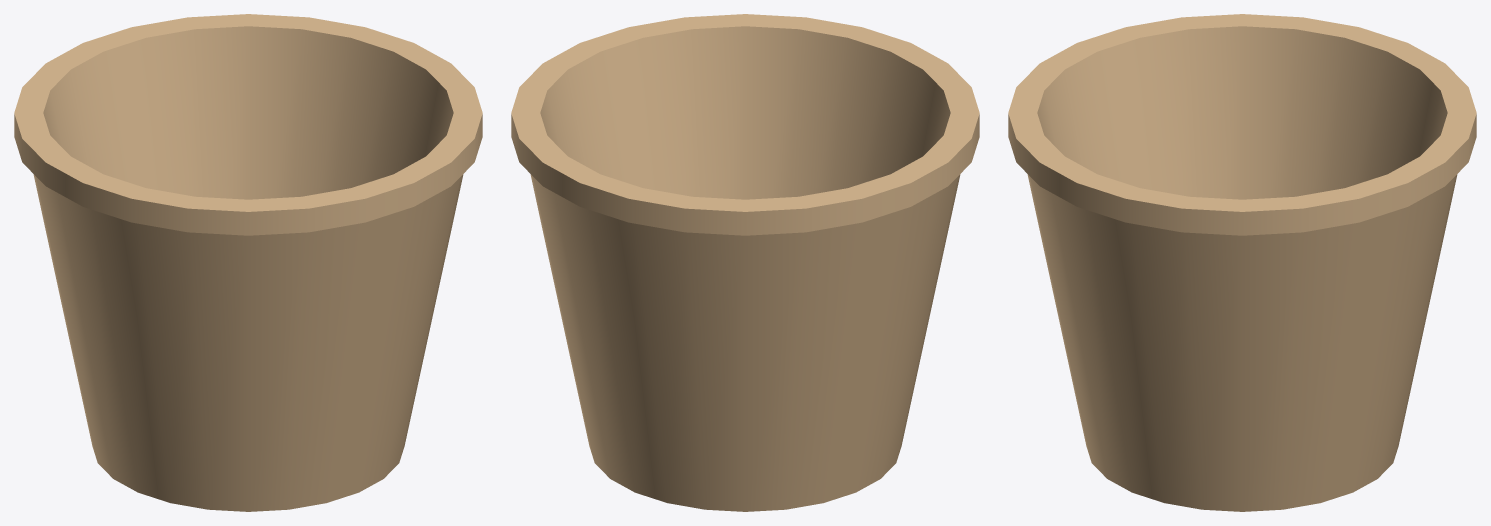
Rendered from pot_yellow.fbx.
The picture shows the model from 3 angles, left to right: view 1: azimuth 30°, elevation 25°; view 2: azimuth 150°, elevation 25°; view 3: azimuth 270°, elevation 25°; orthographic projection.
Parts seen in each view (by area): view 1: pot_yellow; view 2: pot_yellow; view 3: pot_yellow.
Boxes of the visible parts, box(x1,y1,x2,y2) form: pot_yellow: box(14, 14, 482, 511); pot_yellow: box(511, 14, 979, 511); pot_yellow: box(1008, 14, 1476, 511).
Size of the model in its own units: 0.357 by 0.28 by 0.357.
